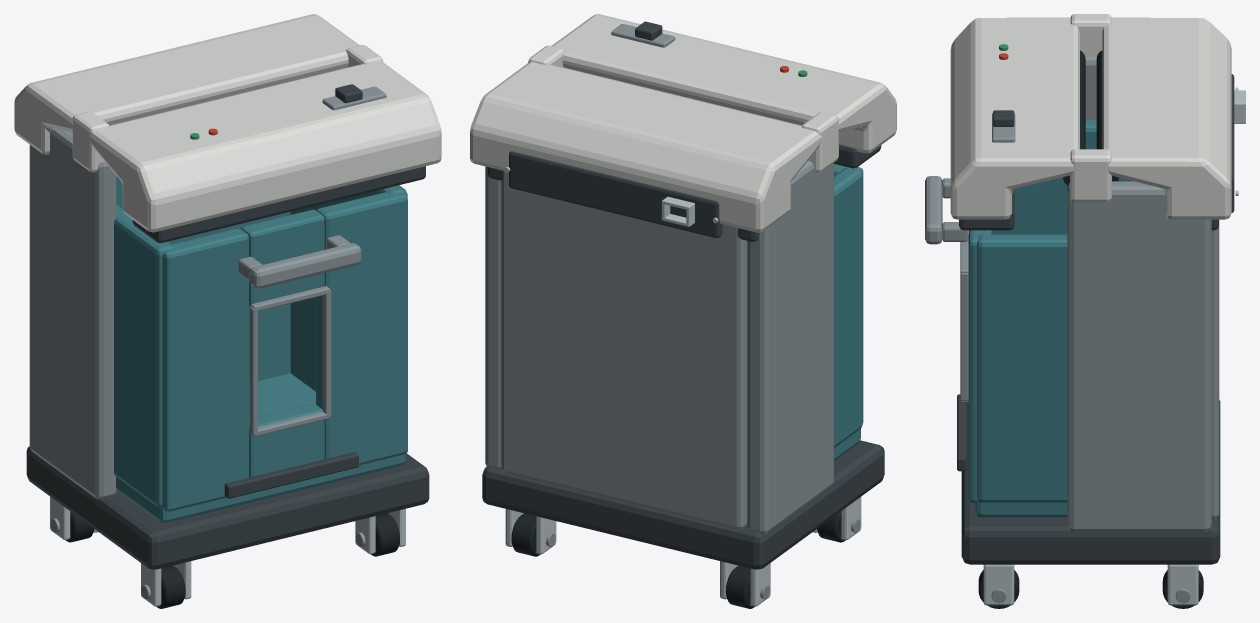
The model's file is city-document-shredder.glb.
3 renders of one model, left to right at view 1: azimuth 30°, elevation 25°; view 2: azimuth 150°, elevation 25°; view 3: azimuth 270°, elevation 25°, orthographic.
Visible parts, largest first — view 1: Assembly | Muted teal enamel, Assembly | Warm ivory molded housing, Assembly | Cool grey equipment shell, Assembly | Graphite internal fittings, Assembly | Satin machined metal, Assembly | Matte rubber contact surfaces; view 2: Assembly | Cool grey equipment shell, Assembly | Warm ivory molded housing, Assembly | Graphite internal fittings, Assembly | Muted teal enamel, Assembly | Satin machined metal, Assembly | Matte rubber contact surfaces; view 3: Assembly | Cool grey equipment shell, Assembly | Warm ivory molded housing, Assembly | Muted teal enamel, Assembly | Graphite internal fittings, Assembly | Satin machined metal, Assembly | Matte rubber contact surfaces.
Part boxes in pixels (x1,y1,x2,y2): Assembly | Muted teal enamel: (114,176,407,523); Assembly | Warm ivory molded housing: (14,14,441,232); Assembly | Cool grey equipment shell: (29,86,386,599); Assembly | Graphite internal fittings: (26,84,429,569); Assembly | Satin machined metal: (50,496,405,606); Assembly | Matte rubber contact surfaces: (65,511,399,608); Assembly | Cool grey equipment shell: (485,24,860,599); Assembly | Warm ivory molded housing: (470,14,896,232); Assembly | Graphite internal fittings: (482,21,884,569); Assembly | Muted teal enamel: (834,164,863,460); Assembly | Satin machined metal: (504,167,861,606); Assembly | Matte rubber contact surfaces: (511,511,845,608); Assembly | Cool grey equipment shell: (925,56,1219,603); Assembly | Warm ivory molded housing: (950,14,1231,219); Assembly | Muted teal enamel: (968,120,1133,517); Assembly | Graphite internal fittings: (957,74,1234,564); Assembly | Satin machined metal: (983,87,1245,605); Assembly | Matte rubber contact surfaces: (978,50,1203,608).
Size of the model in its own units: 0.37 by 0.5645 by 0.345.
